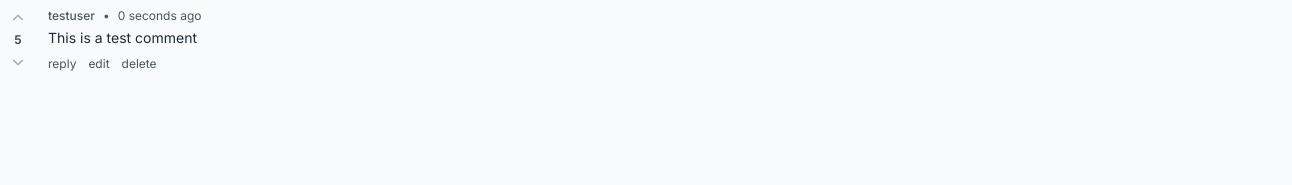
it: CommentItem › Edit › should cancel edit when cancel button is clicked
Click the button "edit": x=99, y=64 [88, 56, 110, 72]
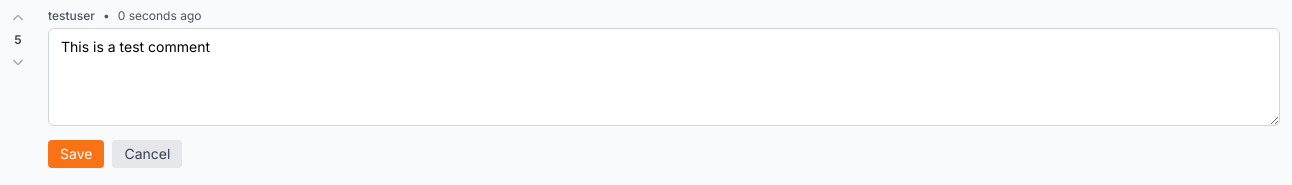
Click the button "Cancel": x=147, y=154 [112, 140, 182, 168]
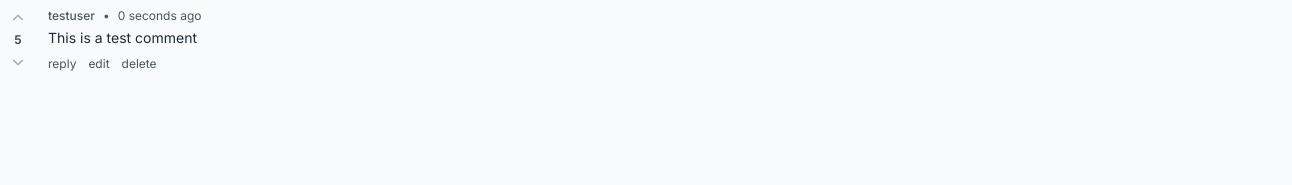
Expected: the text "This is a test comment" is shown, [48, 29, 197, 46]
